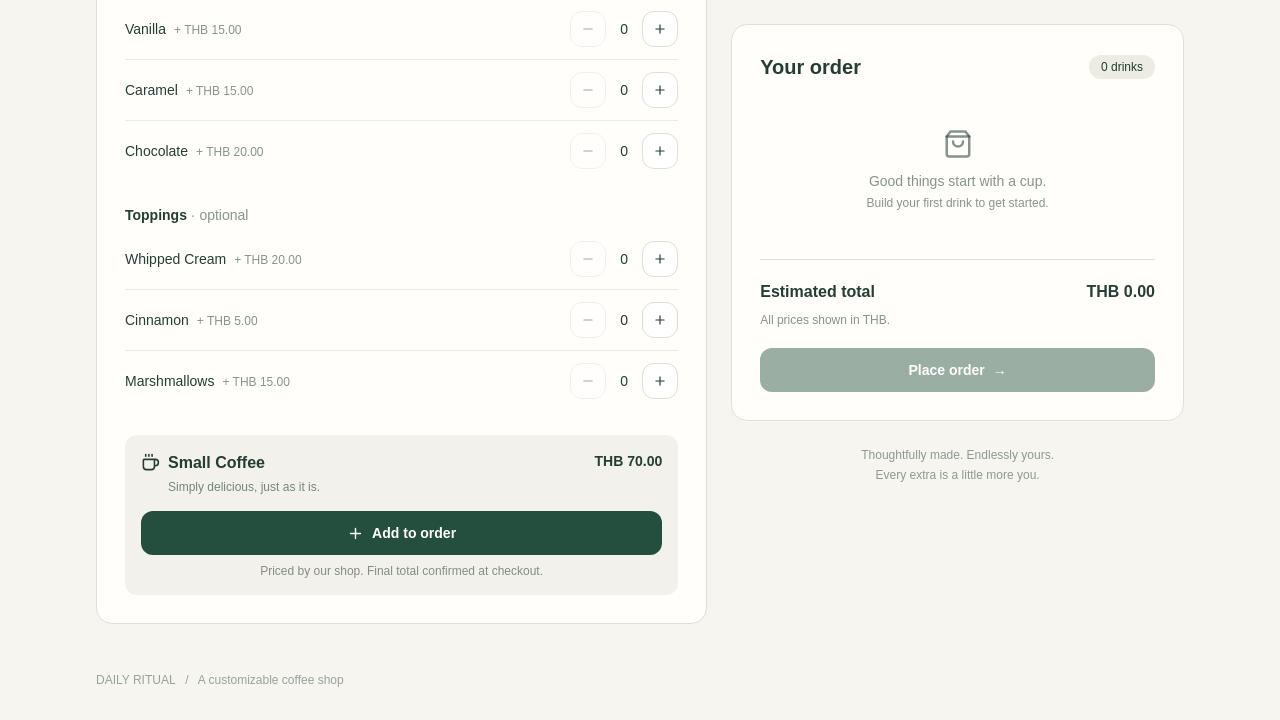
Test: Coffee ordering › shows pending submission and prevents duplicate submission
(page scrolled)
Click the button "Add to order".
click(402, 533)  # box [141,511,662,555]
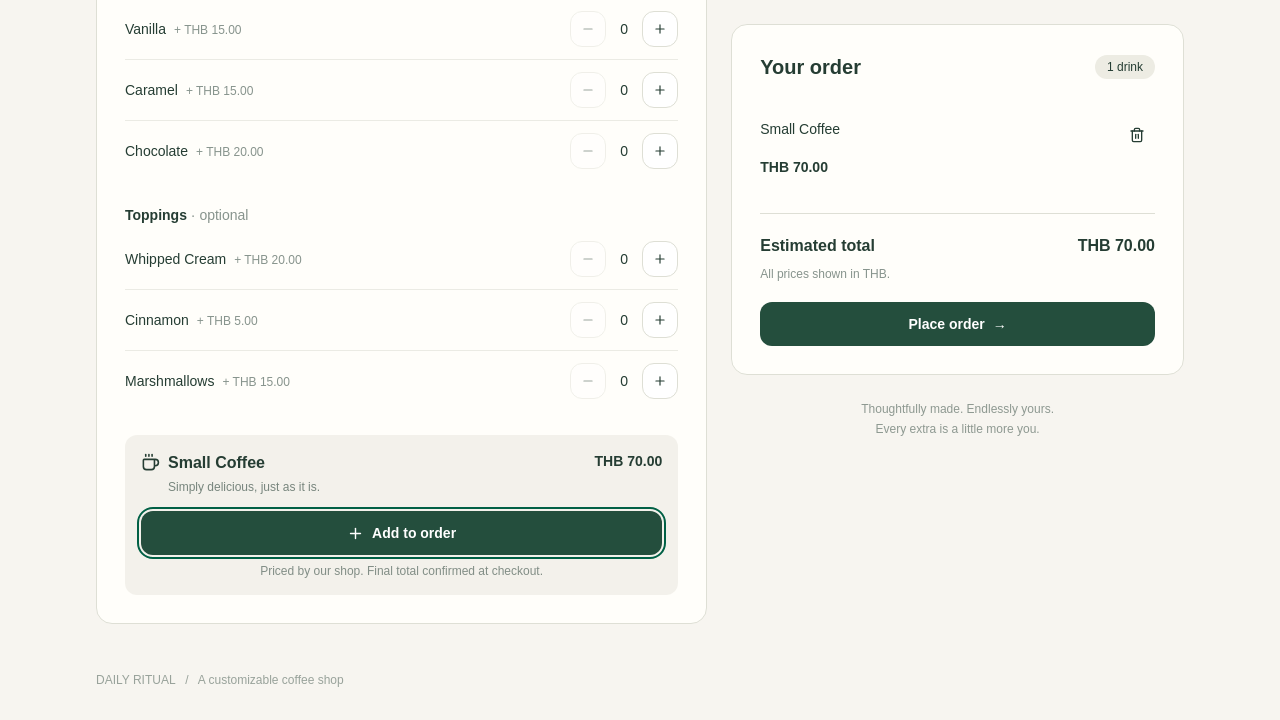
Double-click the button "Place order →".
double_click(958, 324)  # box [760,302,1155,346]
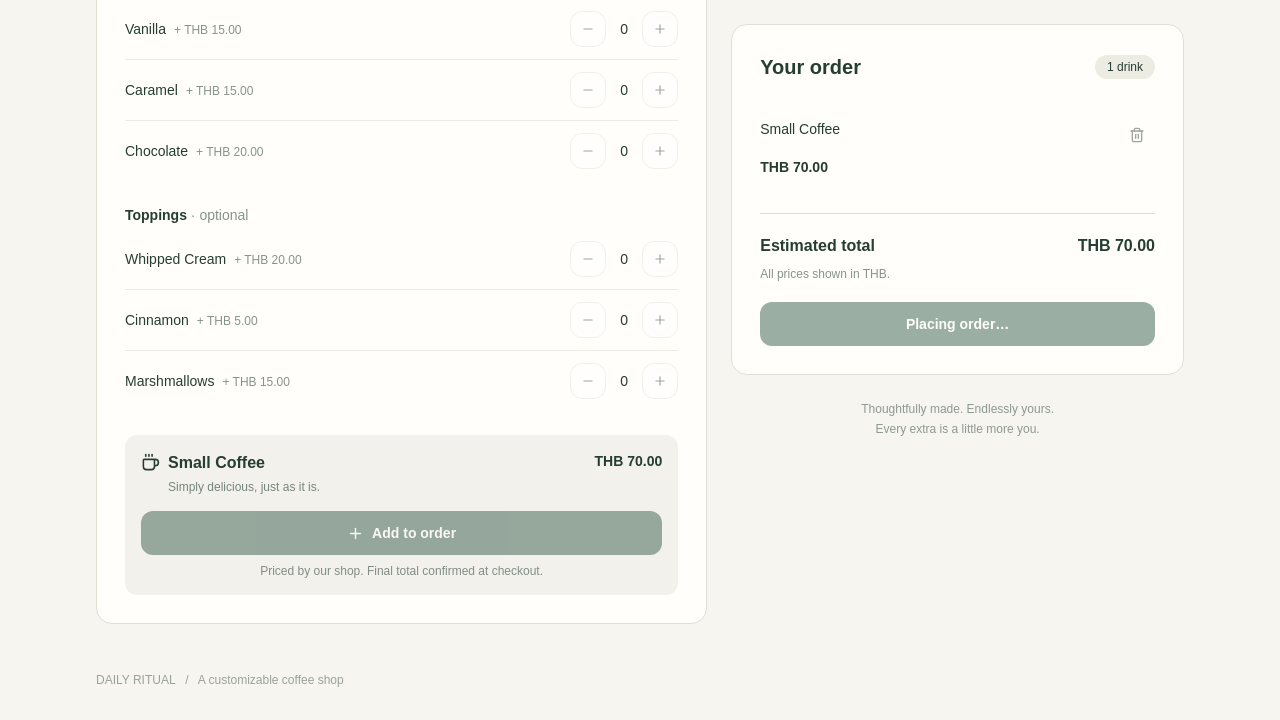
Expected: the button "Placing order…" is disabled, [760,302,1155,346]
Expected: the button named "Remove drink 1" is disabled, [1119,117,1155,153]
